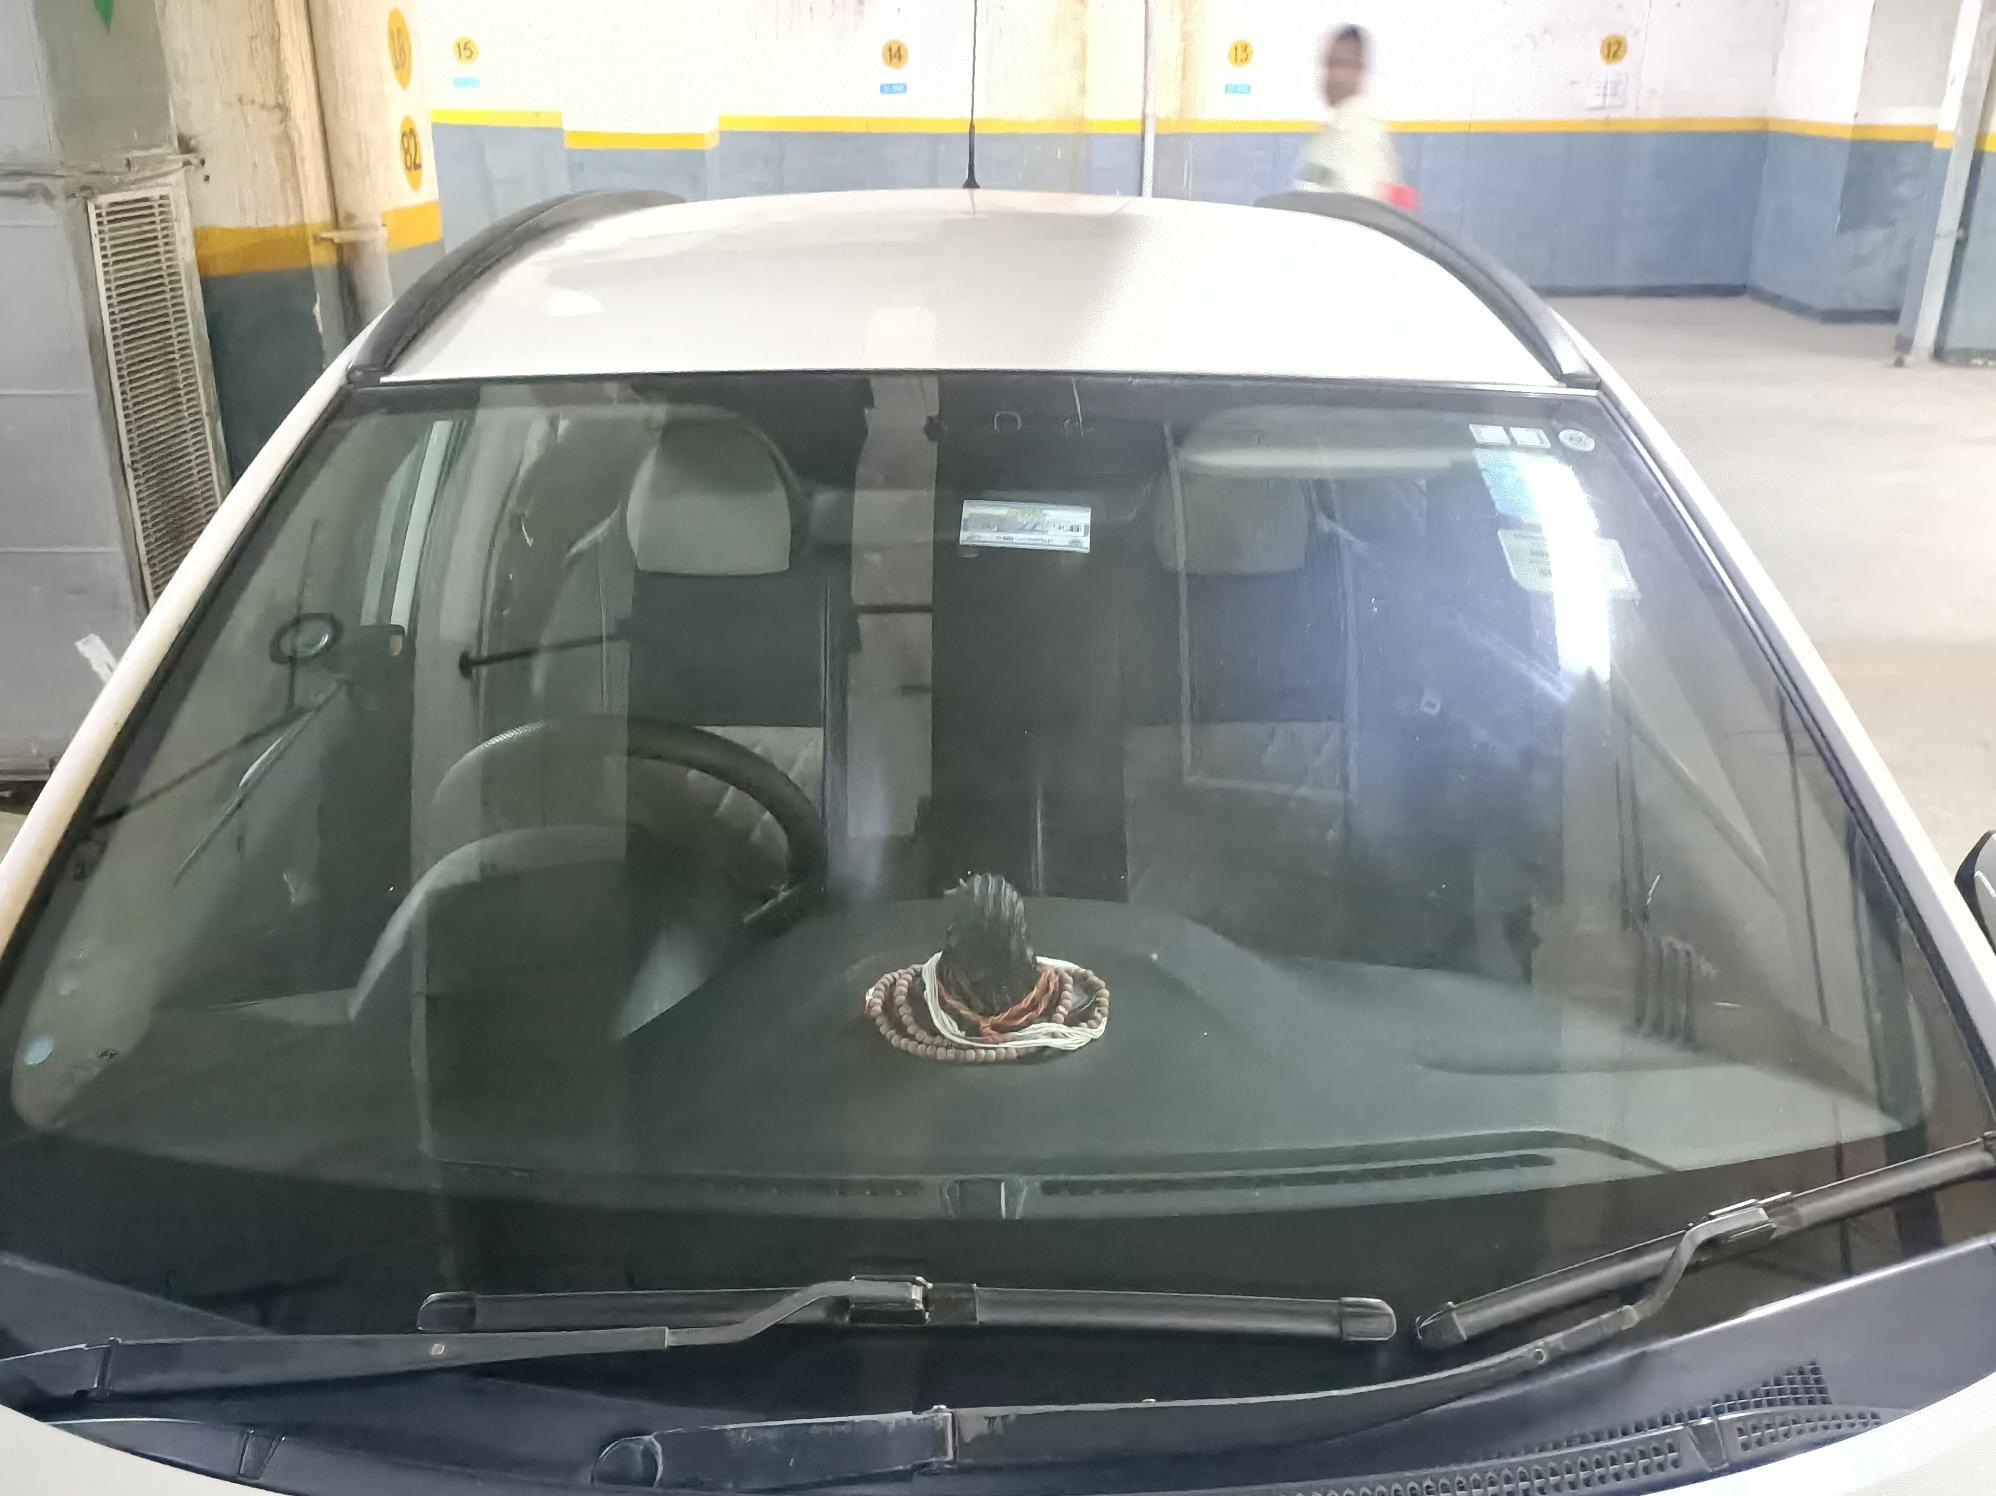FastTag: (943, 486, 1111, 567)
not a FastTag: (1485, 522, 1661, 621), (1463, 421, 1605, 537)
